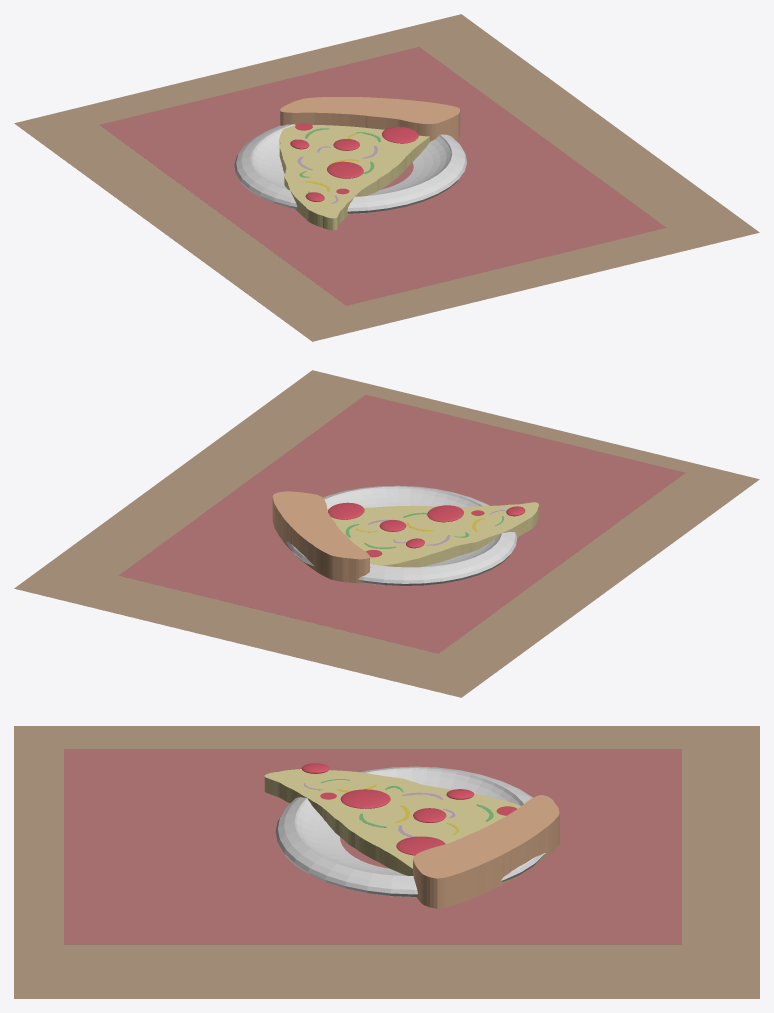
The picture shows the model from 3 angles, top to bottom: view 1: azimuth 30°, elevation 25°; view 2: azimuth 150°, elevation 25°; view 3: azimuth 270°, elevation 25°; orthographic projection. The views are drawn at different scales.
Parts seen in each view (by area): view 1: Mesh_Mesh_head_geo.001_lambert2SG.001; view 2: Mesh_Mesh_head_geo.001_lambert2SG.001; view 3: Mesh_Mesh_head_geo.001_lambert2SG.001.
Part boxes in pixels (x1,y1,x2,y2): Mesh_Mesh_head_geo.001_lambert2SG.001: (14,14,759,341); Mesh_Mesh_head_geo.001_lambert2SG.001: (14,370,759,697); Mesh_Mesh_head_geo.001_lambert2SG.001: (14,726,759,998).
Bounding box in the file's own units: 116 × 9 × 134.
